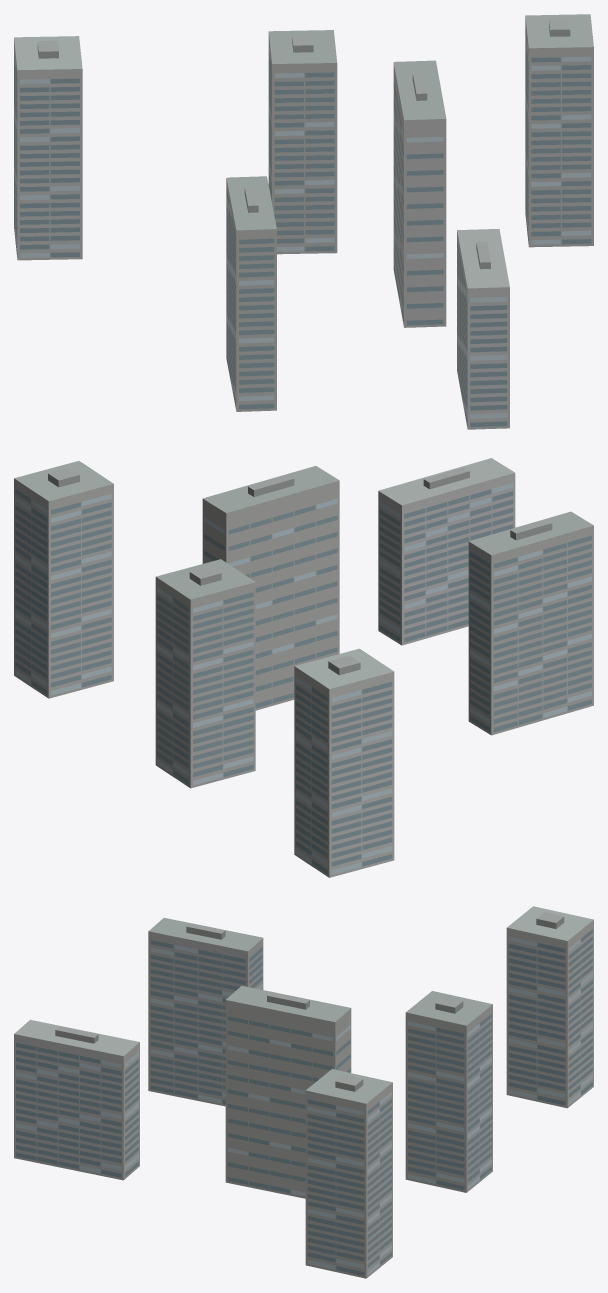
File: apt-a10026249.glb
3 views of the same model, one above another, from view 1: azimuth 30°, elevation 25°; view 2: azimuth 150°, elevation 25°; view 3: azimuth 270°, elevation 25° (orthographic). The views are drawn at different scales.
Parts seen in each view (by area): view 1: apt-a10026249; view 2: apt-a10026249; view 3: apt-a10026249.
Part boxes in pixels (box(x1,y1,x2,y2)): apt-a10026249: box(14, 14, 593, 429); apt-a10026249: box(14, 458, 593, 877); apt-a10026249: box(14, 906, 593, 1278).
Bounding box in the file's own units: 173 × 74 × 206.
